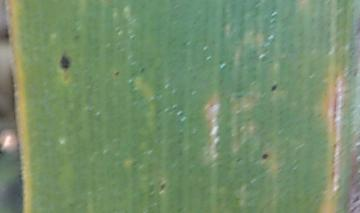tarspot: (57, 52, 72, 72), (156, 181, 169, 195), (270, 82, 279, 93), (260, 152, 269, 161), (137, 66, 146, 74), (73, 33, 81, 41), (113, 69, 120, 78), (234, 93, 243, 99)
